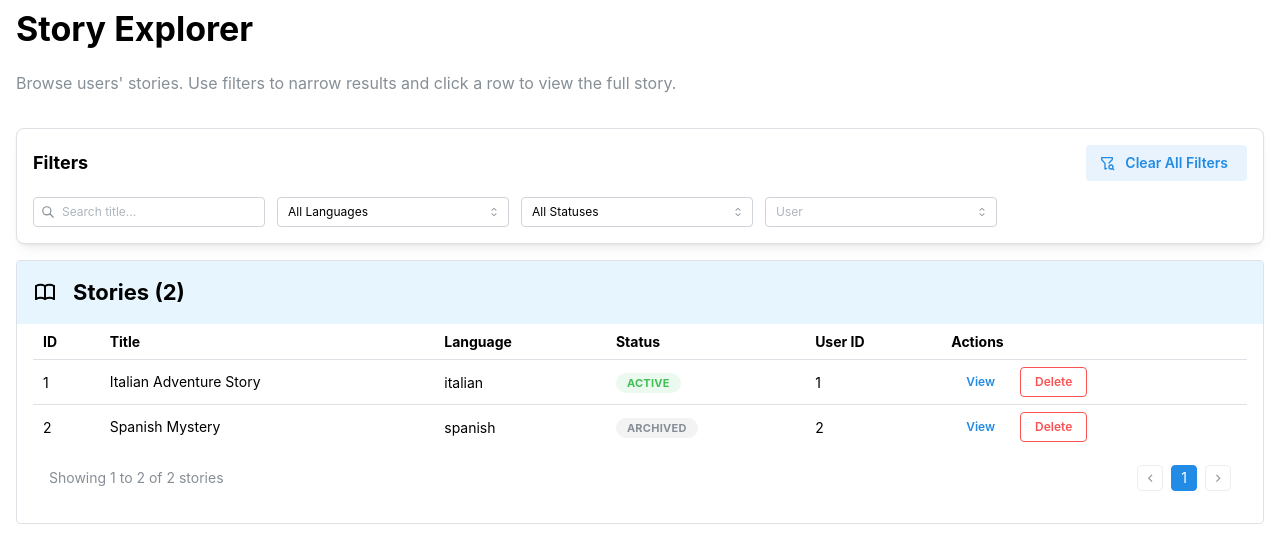
Test: StoryExplorerPage › Filtering › allows selecting status filter
// Select archived status filter
Click the 2nd field showing "All Statuses". click: (637, 212)
box: [521,197,753,227]
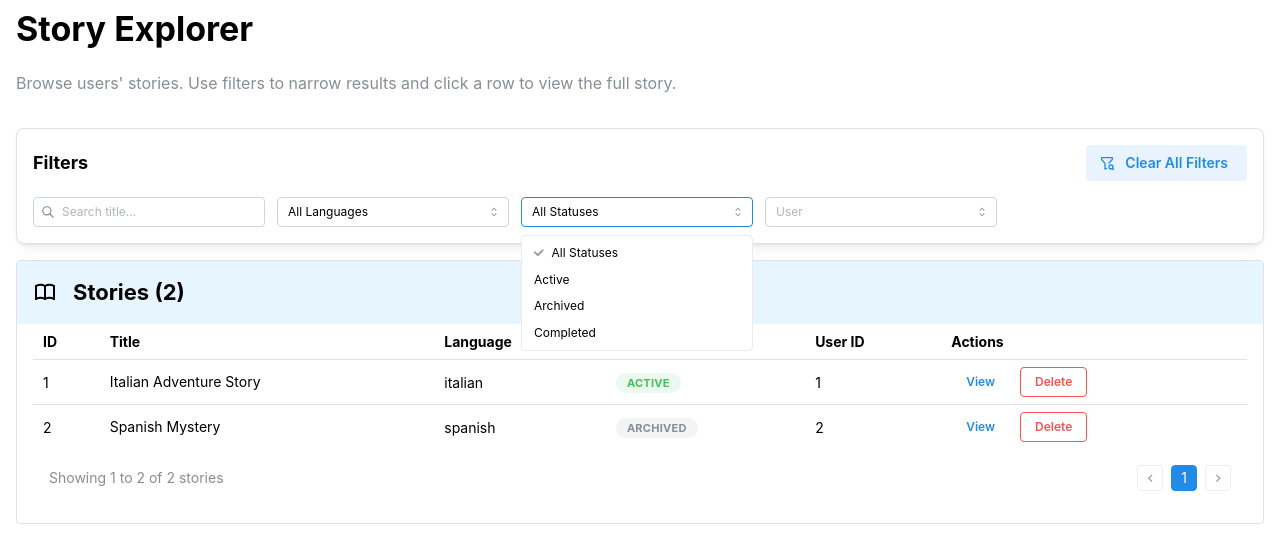
Click the option "Archived". click: (559, 306)
box: [534,298,584,313]
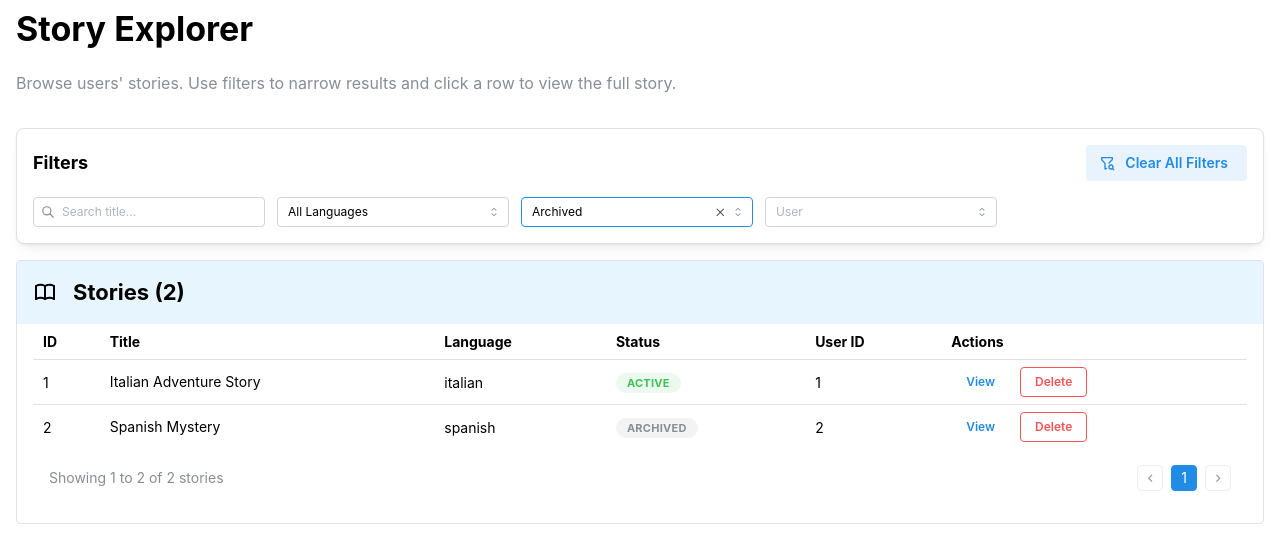
Expected: the 2nd field showing "Archived" is shown, [521,197,753,227]
